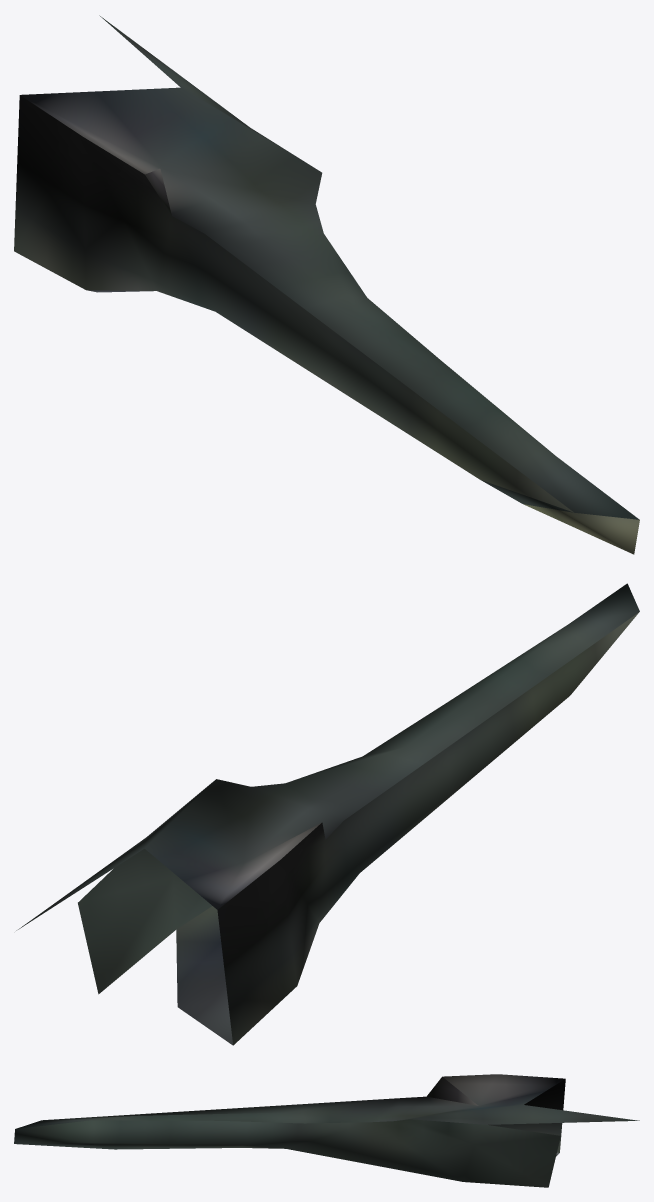
Rendered from t_aero.dae.
3 renders of one model, top to bottom at view 1: azimuth 30°, elevation 25°; view 2: azimuth 150°, elevation 25°; view 3: azimuth 270°, elevation 25°, orthographic. The views are drawn at different scales.
Parts seen in each view (by area): view 1: a_f_02.001; view 2: a_f_02.001; view 3: a_f_02.001.
Part boxes in pixels (x1,y1,x2,y2): a_f_02.001: [14, 15, 639, 554]; a_f_02.001: [16, 583, 639, 1045]; a_f_02.001: [14, 1074, 639, 1187].
Bounding box in the file's own units: 0.0701 × 0.4369 × 0.0625.
